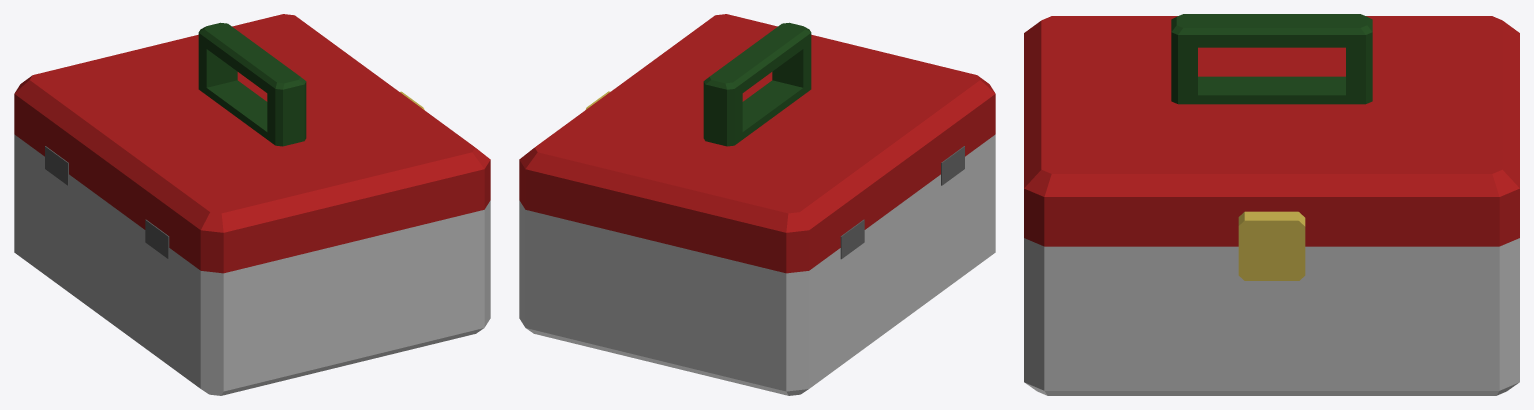
Rendered from QQBOX.fbx.
3 views of the same model, side by side, from view 1: azimuth 30°, elevation 25°; view 2: azimuth 150°, elevation 25°; view 3: azimuth 270°, elevation 25° (orthographic). The views are drawn at different scales.
Parts seen in each view (by area): view 1: polySurface1; view 2: polySurface1; view 3: polySurface1.
Boxes of the visible parts, left/top/right/bottom form: polySurface1: left=14, top=14, right=490, bottom=395; polySurface1: left=519, top=14, right=995, bottom=395; polySurface1: left=1024, top=14, right=1519, bottom=395.
Bounding box in the file's own units: 36.94 × 27.86 × 42.49.
